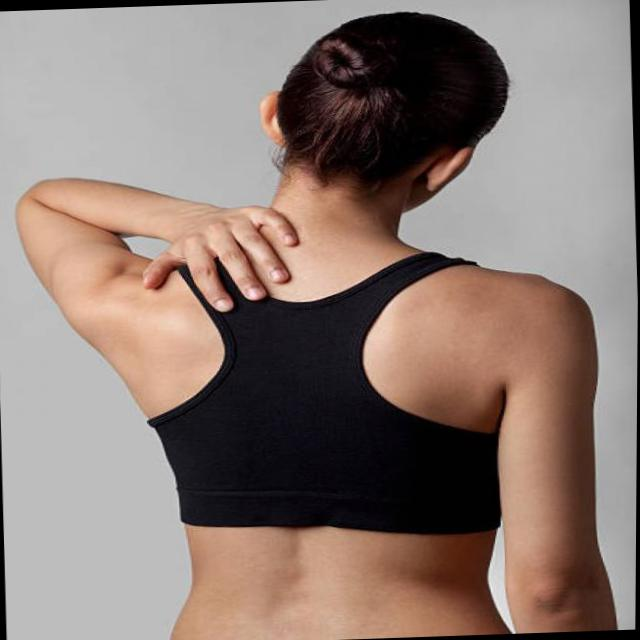no helmet: (259, 4, 524, 232)
